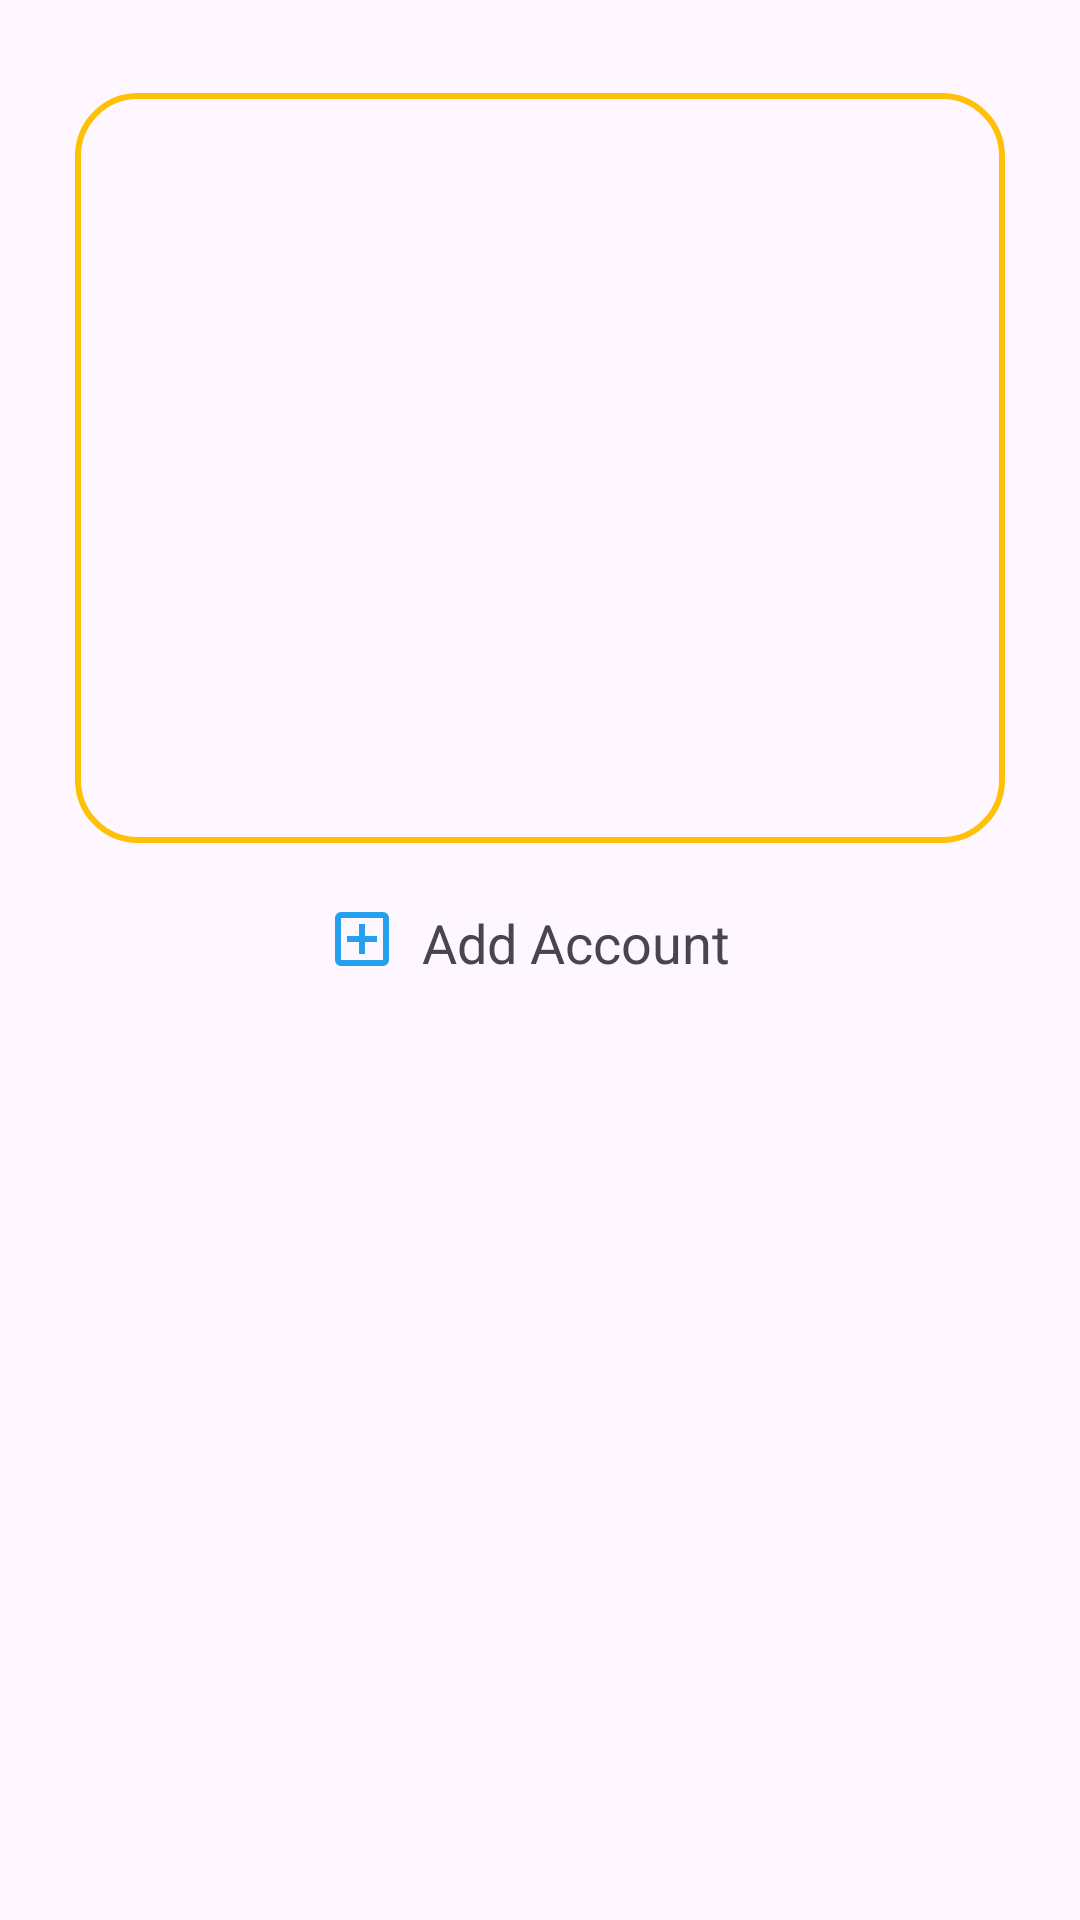

Icons on this 1080×1920 Android screen, each with its box as (x1=x1, y1=y1, x2=x2, y2=y2):
plus: (x1=335, y1=912, x2=389, y2=966)
